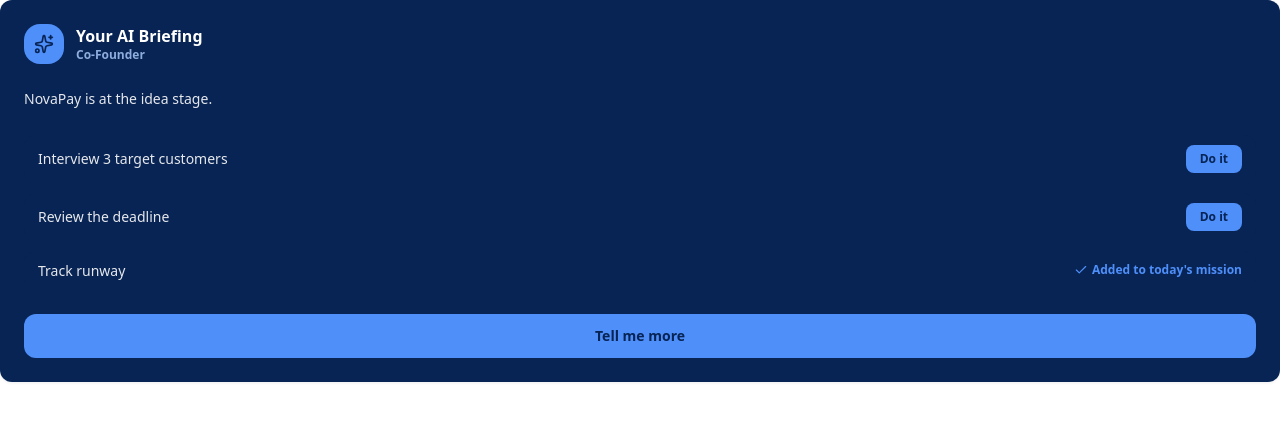
Test case: BriefingCard › a stale briefing (409) shows the honest message and refetches instead of retrying
Click the button with aria-label "Do it: Interview 3 target customers" at (1214, 159), box [1186,145,1242,173]
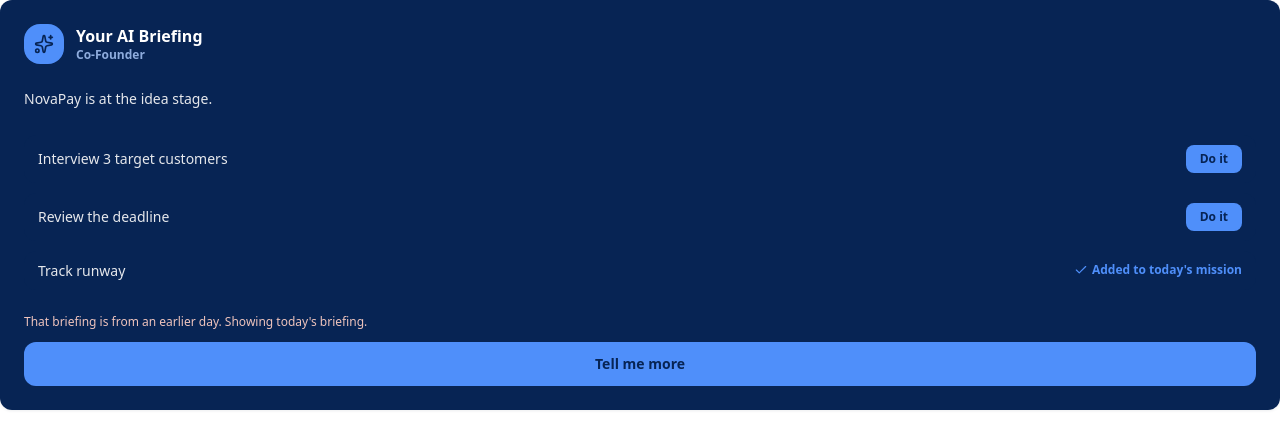
Check: the message reads "That briefing is from an earlier day. Showing today's briefing.", box [24,313,367,330]
